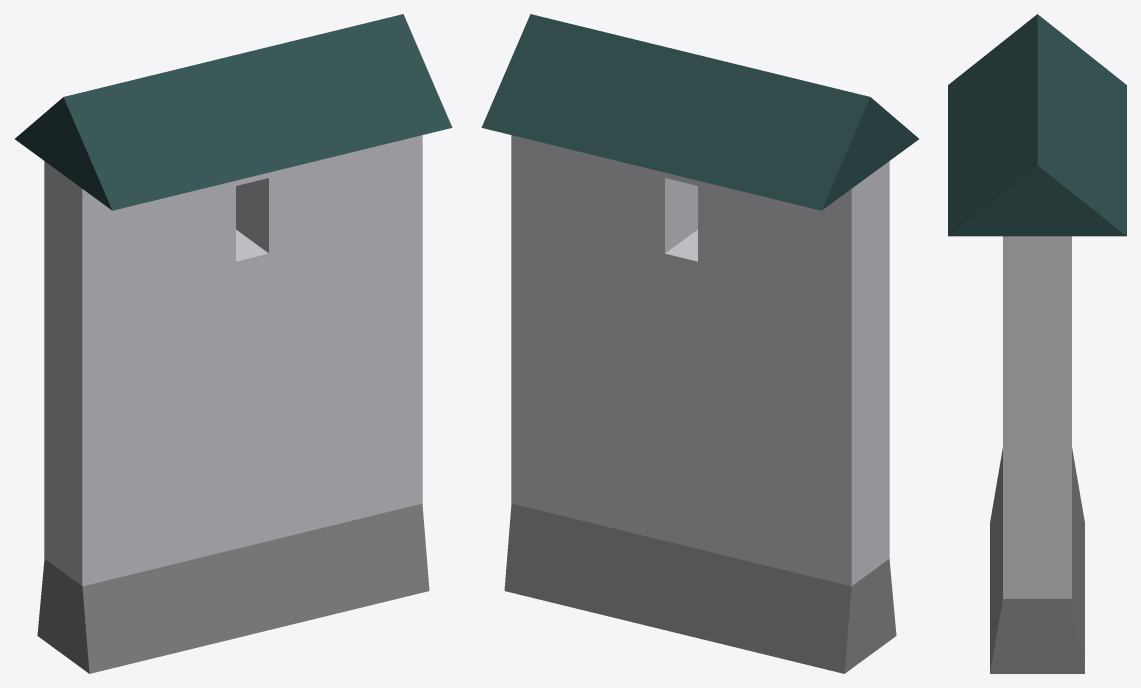
Rendered from Asian_Prop_Building_Fence_Wall_Simple_Small_Embrasure_01.FBX.
3 views of the same model, side by side, from view 1: azimuth 30°, elevation 25°; view 2: azimuth 150°, elevation 25°; view 3: azimuth 270°, elevation 25° (orthographic). The views are drawn at different scales.
Parts seen in each view (by area): view 1: Asian_Prop_Building_Fence_Wall_Simple_Small_Embrasure_01; view 2: Asian_Prop_Building_Fence_Wall_Simple_Small_Embrasure_01; view 3: Asian_Prop_Building_Fence_Wall_Simple_Small_Embrasure_01.
Boxes of the visible parts, <box> form: Asian_Prop_Building_Fence_Wall_Simple_Small_Embrasure_01: <box>15,14,452,673</box>; Asian_Prop_Building_Fence_Wall_Simple_Small_Embrasure_01: <box>481,14,918,673</box>; Asian_Prop_Building_Fence_Wall_Simple_Small_Embrasure_01: <box>948,14,1126,673</box>.
Size of the model in its own units: 2584 by 4051 by 1290.
